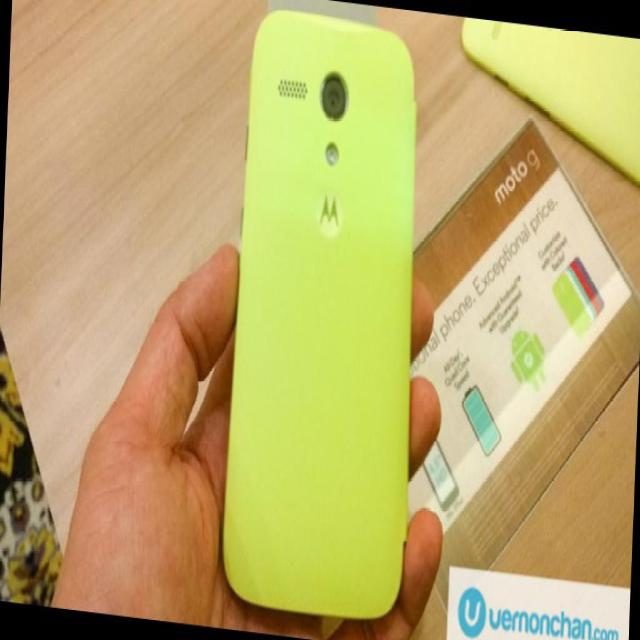handphone: (222, 8, 421, 625)
